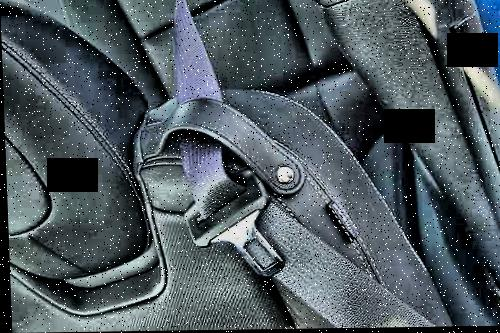seatbelt: (158, 12, 375, 308)
